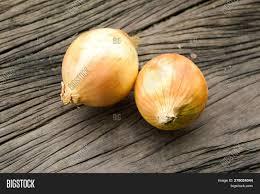onion: (60, 28, 138, 110), (134, 53, 208, 132)
